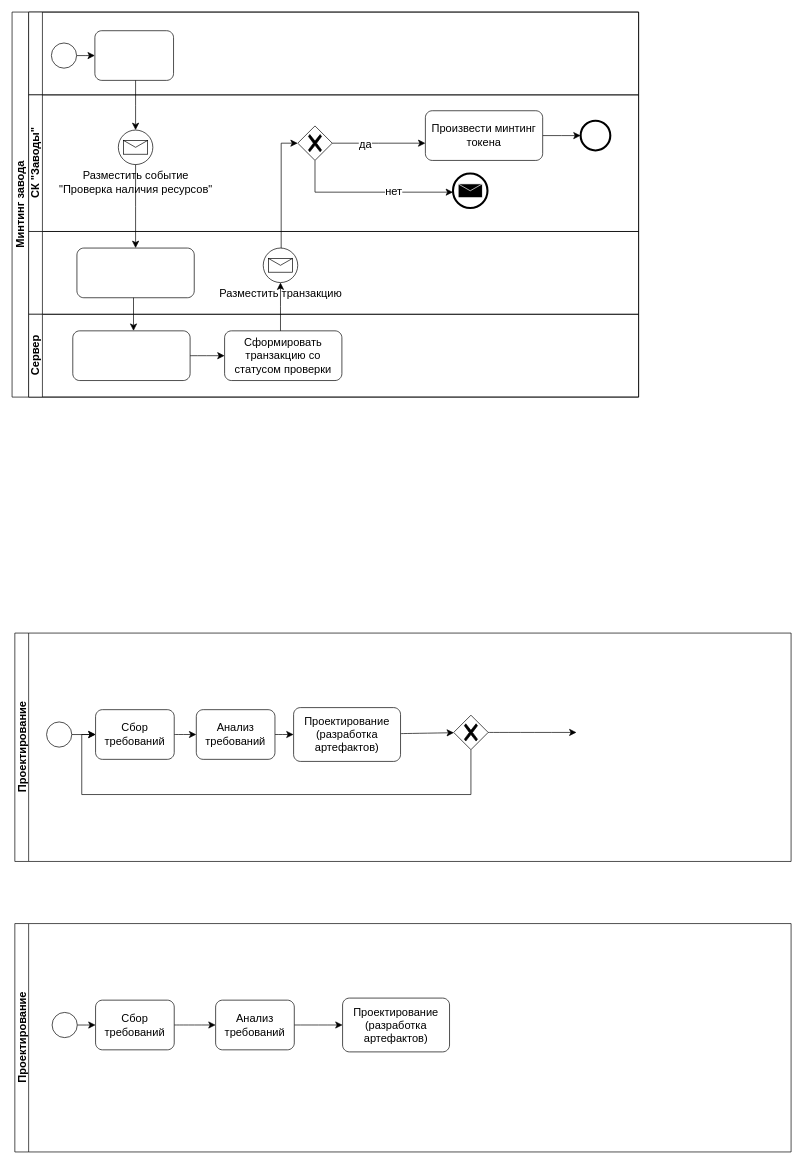
Some shapes in this 803 by 1164 pixel diagram are drawn without their labels. The shapes that lost their labels are listed below. From the top down, each one's box as (x1, y1, x2, y2) in pixels, then its label:
(94, 30, 174, 80): Вызвать метод "mint"
(28, 11, 639, 95): Игрок
(297, 125, 332, 160): У игрока есть нужные ресурсы?
(452, 173, 487, 208): Ошибка
(76, 247, 194, 298): Отловить событие
(28, 231, 639, 314): Нода
(72, 330, 190, 381): Проверить наличие ресурсов у игрока
(453, 714, 488, 750): Достаточный уровень проработки?
